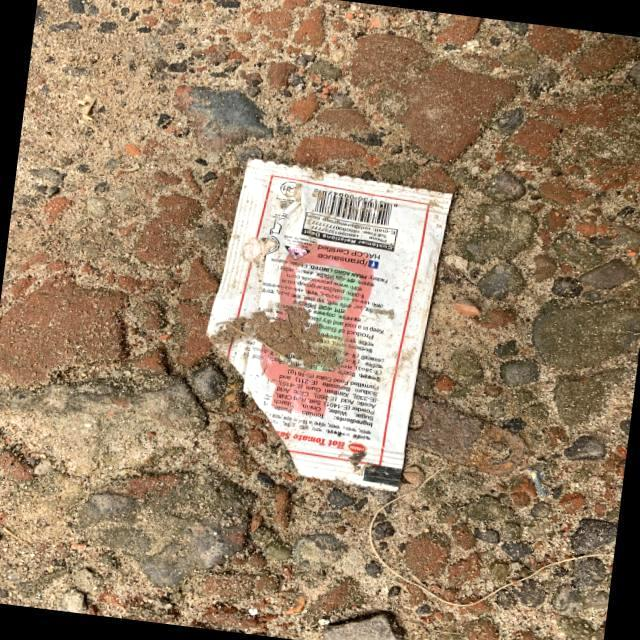packet: (196, 159, 448, 492)
